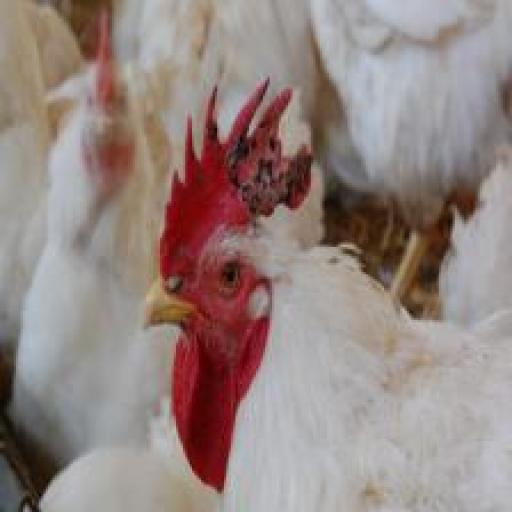disease: (198, 85, 320, 210)
